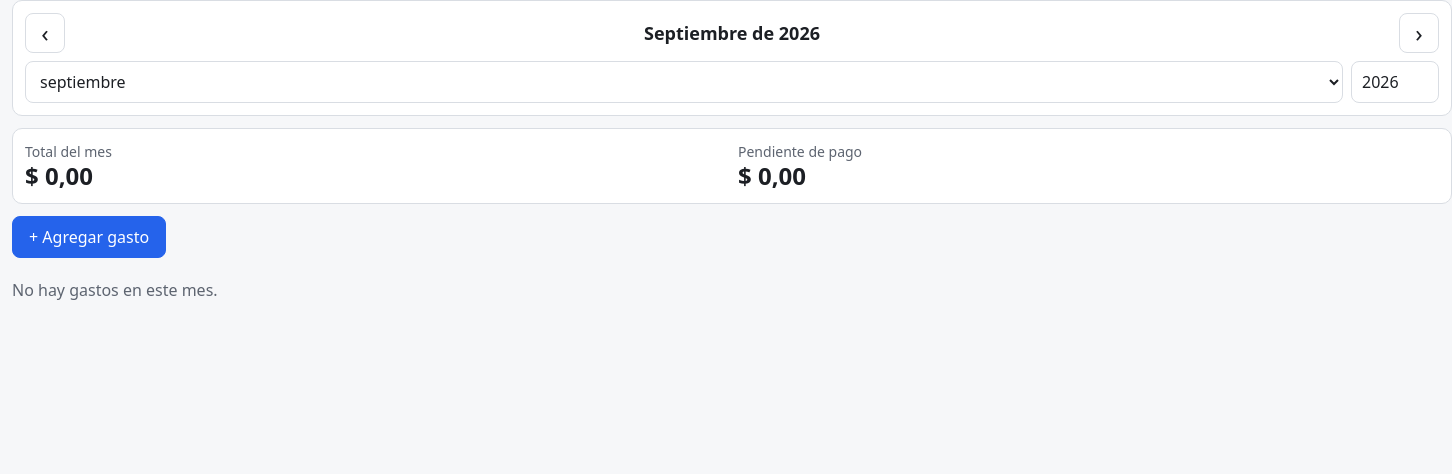
ExpensesPage › navega al mes anterior
Click the button named "Mes anterior": (45, 33) top-left (25, 13), bottom-right (65, 53)
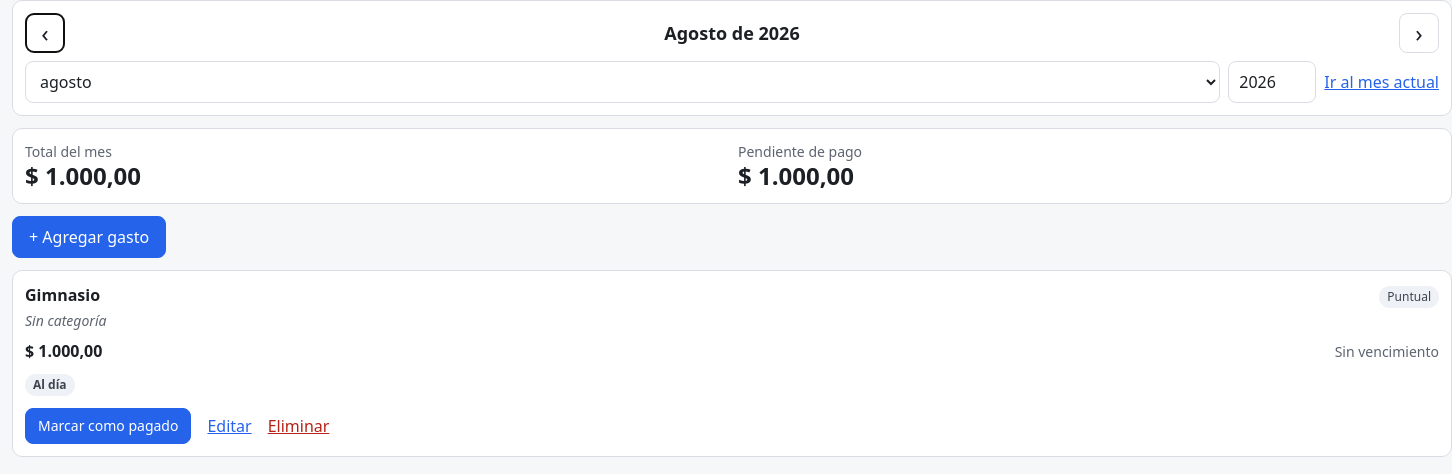
expect the heading "agosto de 2026" is shown: met, box top-left (664, 21), bottom-right (800, 45)
expect the text "Gimnasio" is shown: met, box top-left (25, 283), bottom-right (100, 307)
